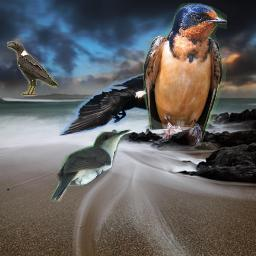Crow: (59, 52, 203, 136), (7, 41, 58, 96)
Cuckoo: (50, 129, 132, 202)
Swallow: (143, 3, 227, 148)
